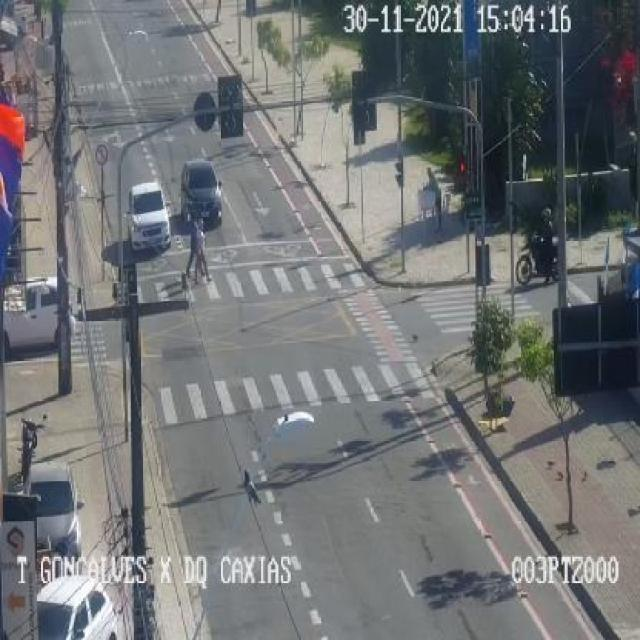Car: (121, 175, 175, 263), (181, 145, 228, 228)
Van: (511, 187, 574, 296), (5, 274, 71, 374)
